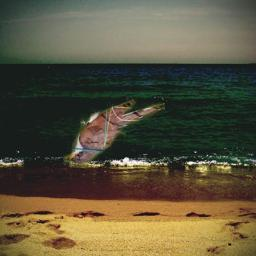Cuckoo: (63, 96, 165, 167)
